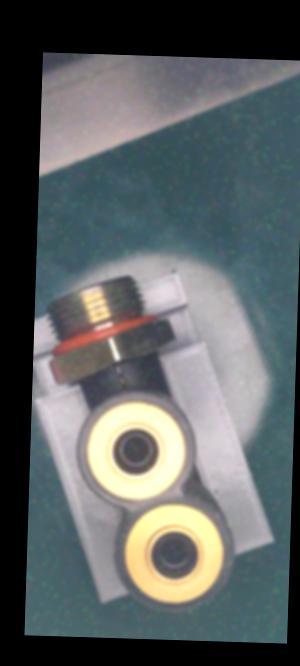craze: (111, 362, 132, 392)
